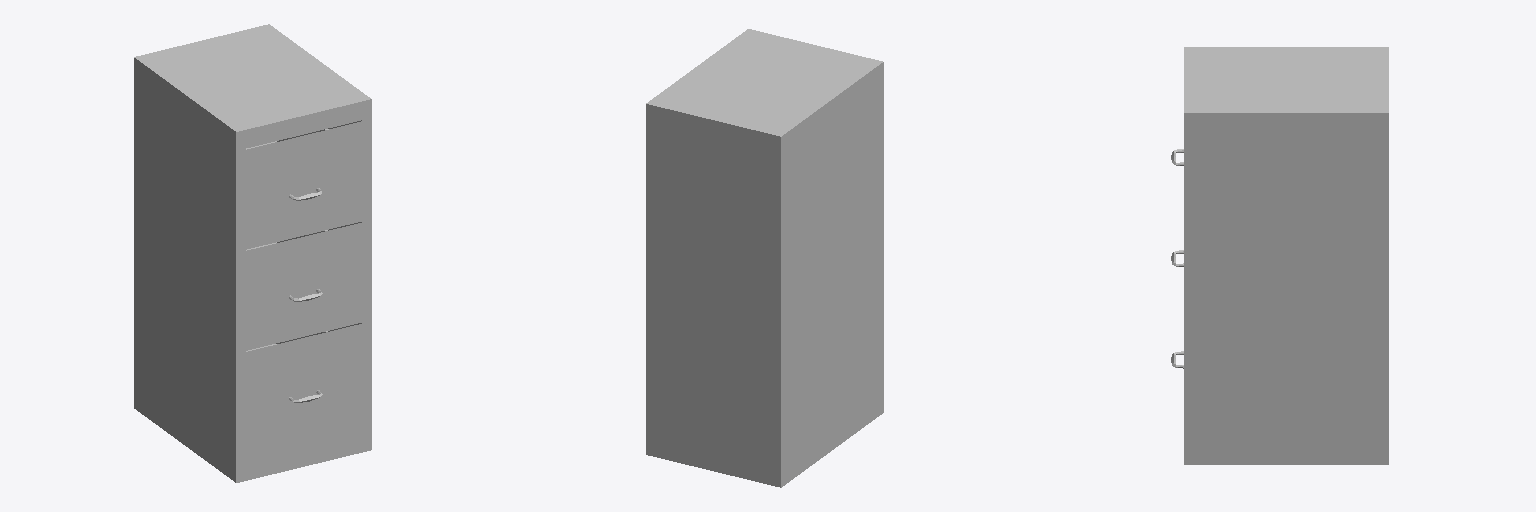
File: file_cabinet.obj
3 renders of one model, left to right at view 1: azimuth 30°, elevation 25°; view 2: azimuth 150°, elevation 25°; view 3: azimuth 270°, elevation 25°, orthographic.
Visible parts, largest first — view 1: metal_file_cabinet_metal_file_cabinet.001; view 2: metal_file_cabinet_metal_file_cabinet.001; view 3: metal_file_cabinet_metal_file_cabinet.001.
Part boxes in pixels (left/top/right/bottom): metal_file_cabinet_metal_file_cabinet.001: left=134, top=24, right=371, bottom=482; metal_file_cabinet_metal_file_cabinet.001: left=646, top=29, right=883, bottom=487; metal_file_cabinet_metal_file_cabinet.001: left=1171, top=47, right=1388, bottom=464.
Size of the model in its own units: 0.4899 by 1.22 by 0.6825.